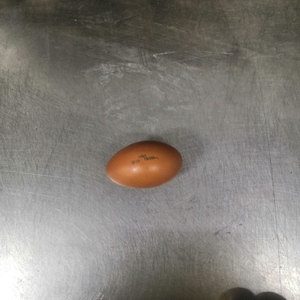brown egg: (105, 140, 184, 189)
